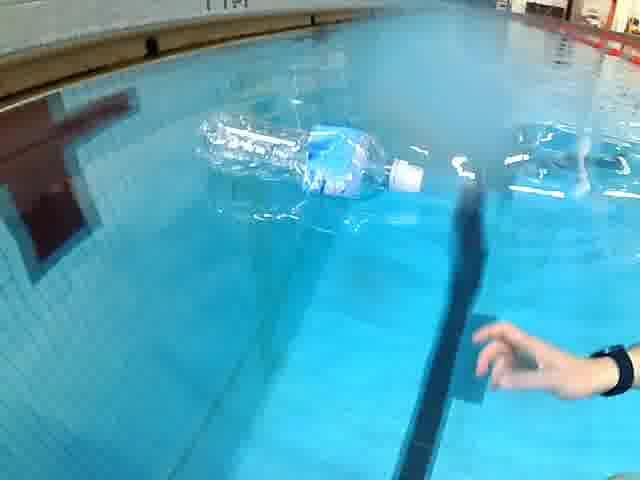Bottle: (186, 109, 445, 206)
